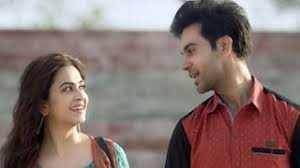Caution: (2, 1, 300, 168)
